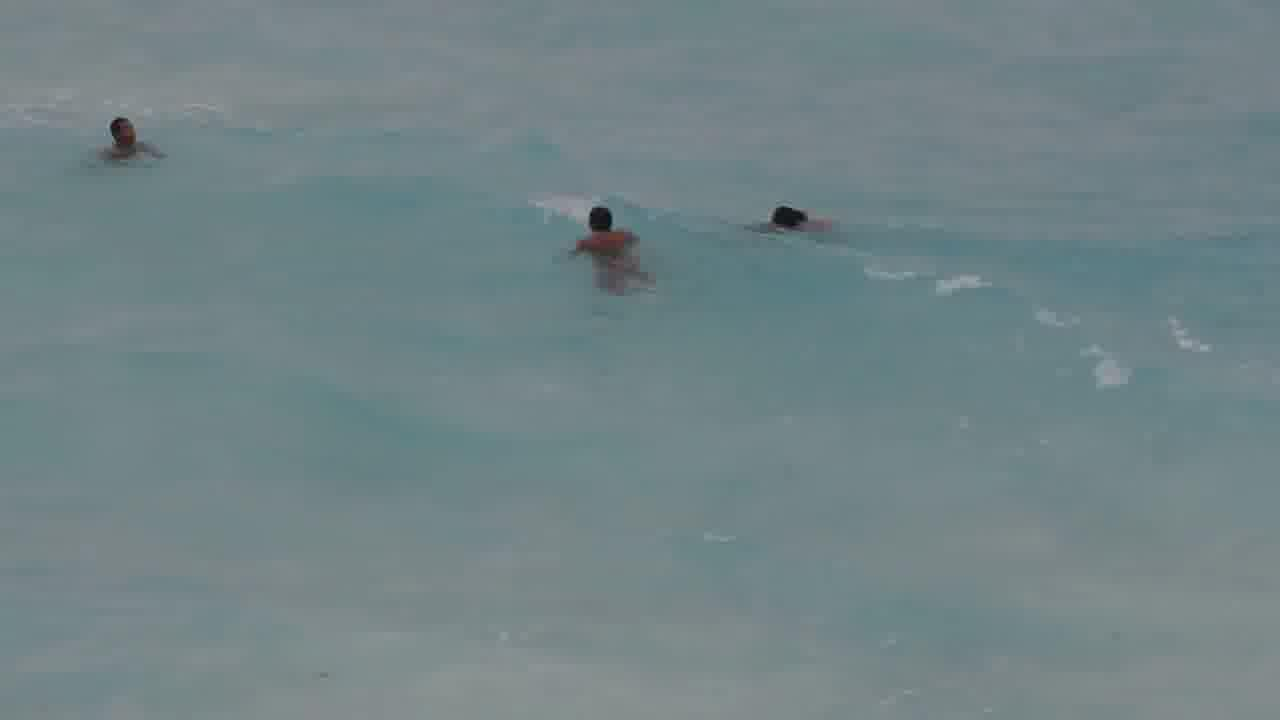swimmer: (567, 201, 655, 296), (744, 197, 840, 245), (92, 114, 165, 165)
